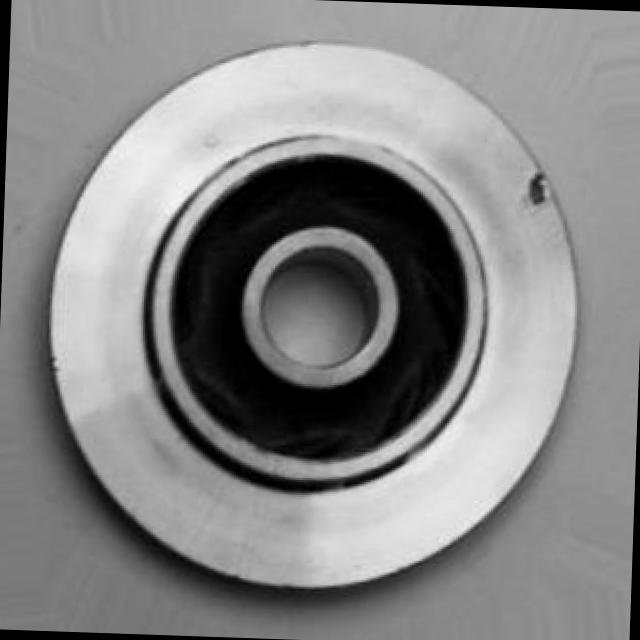Defect: (518, 164, 557, 214)
